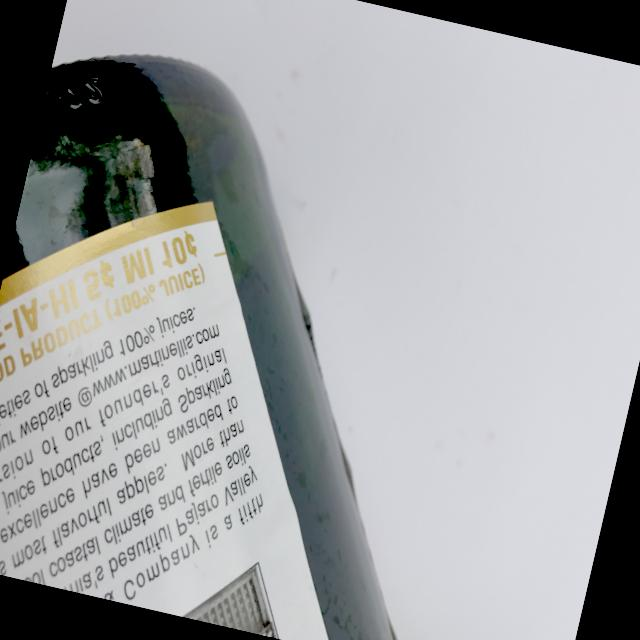Glass: (0, 21, 542, 640)
